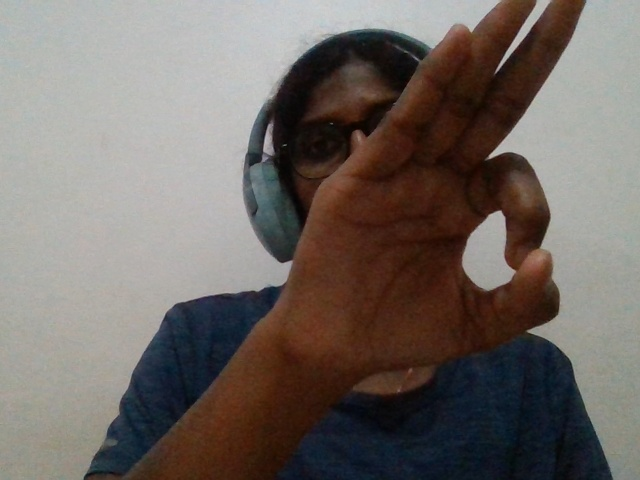F: (253, 1, 601, 480)
